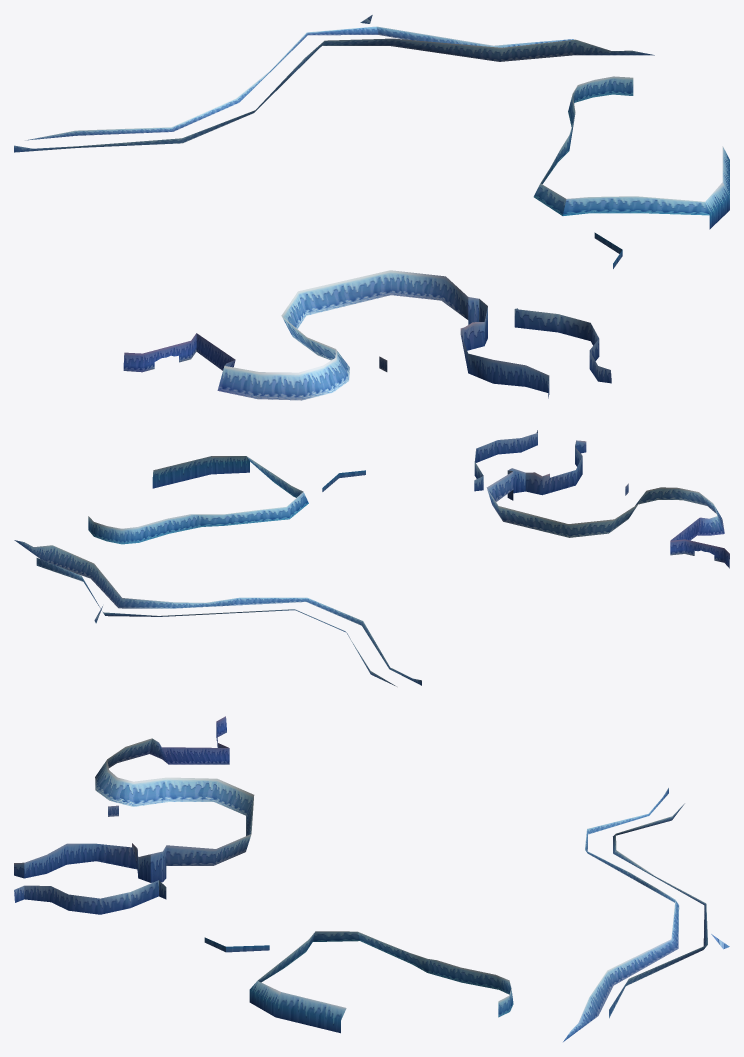
Rendered from object_48_lev2.glb.
3 renders of one model, top to bottom at view 1: azimuth 30°, elevation 25°; view 2: azimuth 150°, elevation 25°; view 3: azimuth 270°, elevation 25°, orthographic. The views are drawn at different scales.
Parts seen in each view (by area): view 1: object_48_lev2; view 2: object_48_lev2; view 3: object_48_lev2.
Boxes of the visible parts, <box> form: object_48_lev2: <box>14,15,729,400</box>; object_48_lev2: <box>14,430,729,686</box>; object_48_lev2: <box>14,716,729,1041</box>.
Size of the model in its own units: 125 by 7.96 by 122.
1 material, 1 textured.
